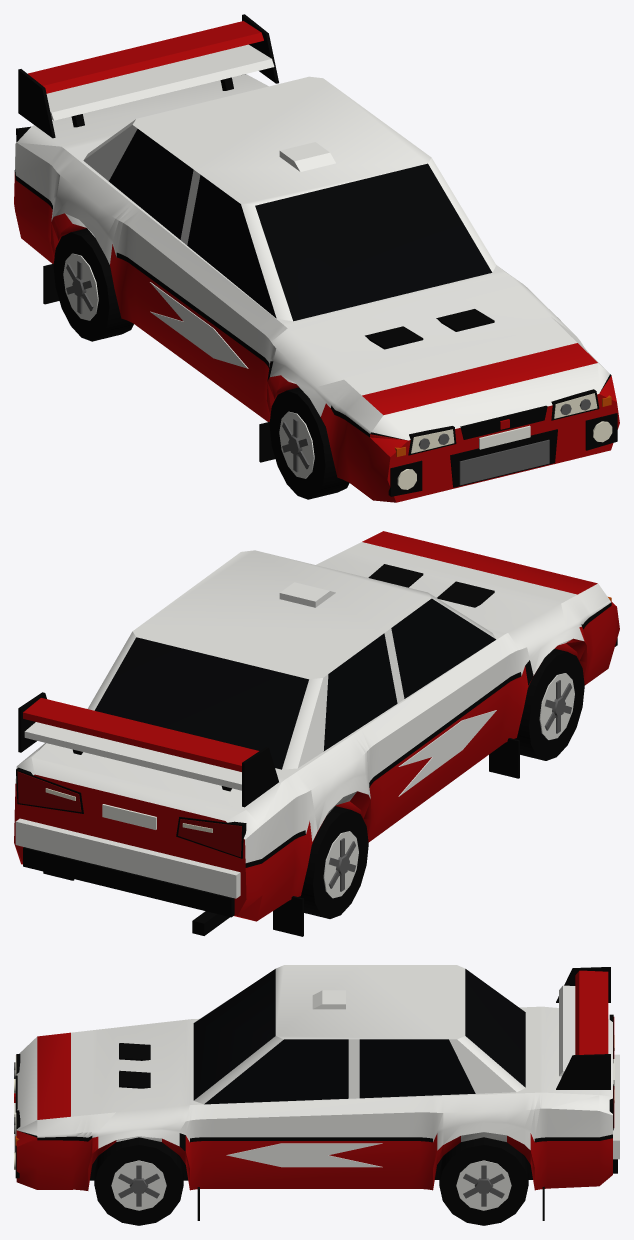
Rendered from lancer-evo6.glb.
3 renders of one model, top to bottom at view 1: azimuth 30°, elevation 25°; view 2: azimuth 150°, elevation 25°; view 3: azimuth 270°, elevation 25°, orthographic. The views are drawn at different scales.
Parts seen in each view (by area): view 1: body, cabin, cabin-body, body-red, wing-low, wing-high, wheel-back-right, wheel-front-right, intercooler, chevron-right, wing-plate-right, mouth (+10 smaller); view 2: body, cabin, cabin-body, body-red, bumper-rear, wing-high, valance-rear, wing-low, wheel-back-right, wheel-front-right, chevron-right, wing-plate-right (+13 smaller); view 3: body, cabin, body-red, cabin-body, wheel-front-left, wheel-back-left, wing-high, chevron-left, body-black, wing-plate-left, rim-front-left, rim-back-left (+6 smaller).
Part boxes in pixels (x1,y1,x2,y2): body: [15, 74, 609, 440]; cabin: [109, 129, 492, 321]; cabin-body: [83, 76, 496, 321]; body-red: [14, 172, 619, 502]; wing-low: [46, 44, 274, 120]; wing-high: [28, 21, 263, 93]; wheel-back-right: [53, 228, 133, 341]; wheel-front-right: [269, 387, 349, 499]; intercooler: [459, 439, 549, 485]; chevron-right: [150, 282, 248, 368]; wing-plate-right: [18, 69, 55, 138]; mouth: [450, 429, 557, 487]; body: [15, 542, 611, 862]; cabin: [94, 598, 495, 769]; cabin-body: [87, 550, 495, 769]; body-red: [14, 531, 619, 921]; bumper-rear: [15, 818, 240, 898]; wing-high: [23, 698, 258, 771]; valance-rear: [23, 847, 234, 917]; wing-low: [24, 722, 241, 790]; wheel-back-right: [298, 806, 368, 918]; wheel-front-right: [514, 648, 584, 760]; chevron-right: [398, 710, 496, 796]; wing-plate-right: [242, 747, 278, 807]; body: [16, 1006, 612, 1150]; cabin: [193, 969, 525, 1104]; body-red: [16, 1032, 612, 1190]; cabin-body: [194, 965, 525, 1104]; wheel-front-left: [94, 1137, 183, 1225]; wheel-back-left: [439, 1137, 528, 1225]; wing-high: [575, 970, 608, 1054]; chevron-left: [226, 1143, 382, 1167]; body-black: [18, 1130, 612, 1151]; wing-plate-left: [556, 1054, 610, 1089]; rim-front-left: [111, 1160, 166, 1210]; rim-back-left: [456, 1160, 511, 1210].
Size of the model in its own units: 1.79 by 1.43 by 4.41.
